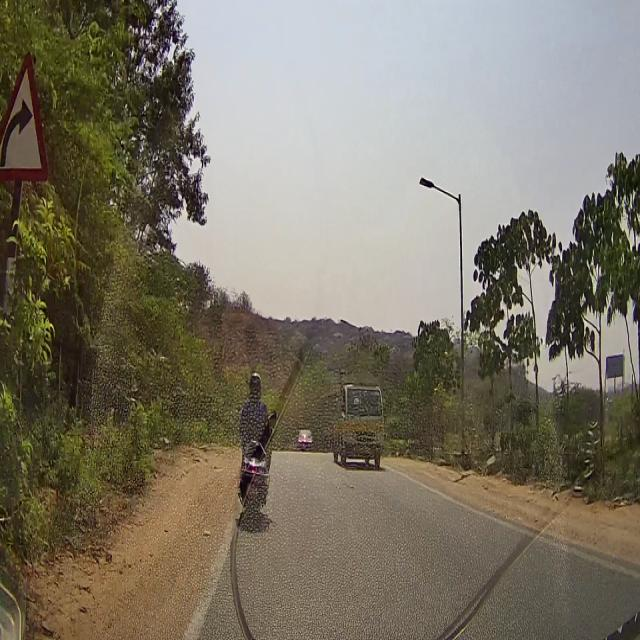right-hand-curve: (1, 38, 48, 190)
